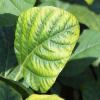Soyabean leaf: (14, 6, 80, 95)
